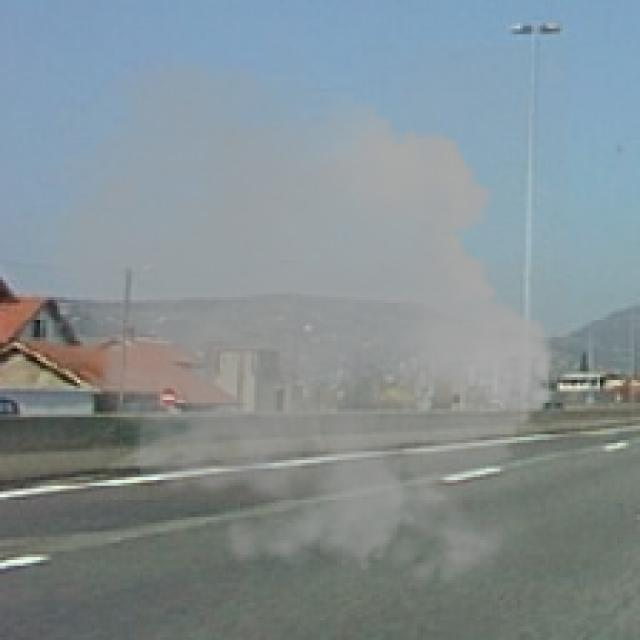smoke: (9, 43, 568, 603)
